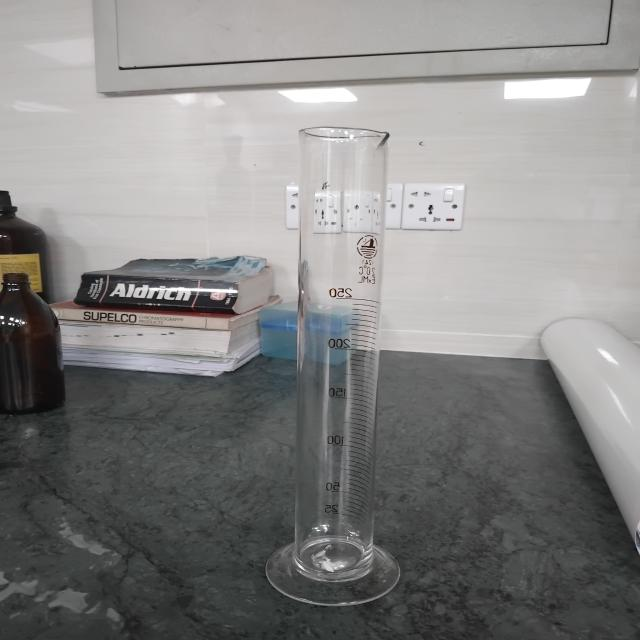Measuring_Cylinder: (190, 81, 464, 620)
